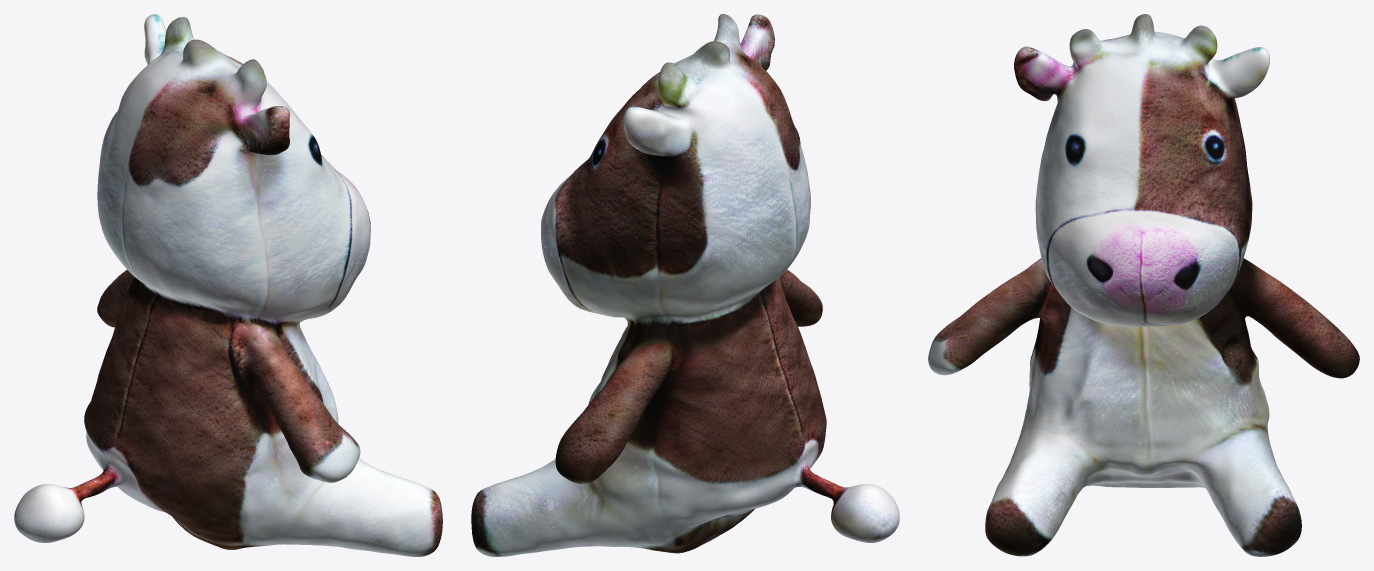
Rendered from cow_plush_toy.glb.
3 views of the same model, side by side, from view 1: azimuth 30°, elevation 25°; view 2: azimuth 150°, elevation 25°; view 3: azimuth 270°, elevation 25° (orthographic). The views are drawn at different scales.
Parts seen in each view (by area): view 1: high_poly_0; view 2: high_poly_0; view 3: high_poly_0.
Boxes of the visible parts, x1=… form: high_poly_0: x1=14, y1=14, x2=442, y2=556; high_poly_0: x1=471, y1=14, x2=899, y2=556; high_poly_0: x1=928, y1=14, x2=1359, y2=556.
Size of the model in its own units: 0.7455 by 1 by 0.8377.
1 material, 1 textured.
